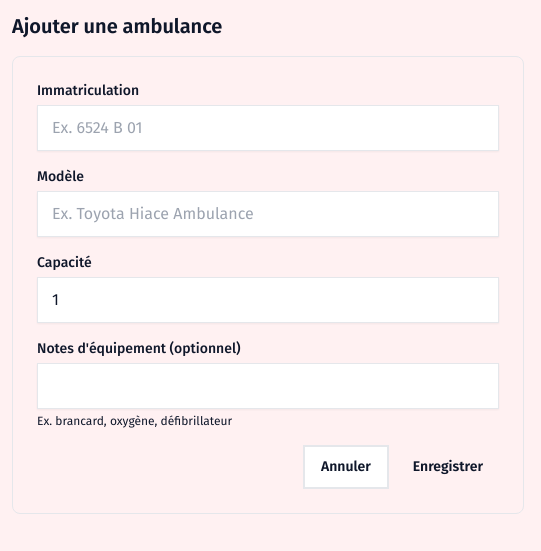
it: H4 — Formulaire ambulance (section 26 : formulaires, erreurs) › désactive la validation tant que le formulaire est invalide (pas de POST)
The image size is (541, 551).
Soumission avec modèle manquant → erreurs inline, pas d'appel réseau
Type "6524 B 01" into the field labelled "Immatriculation" at (268, 128), box [37, 105, 499, 151]
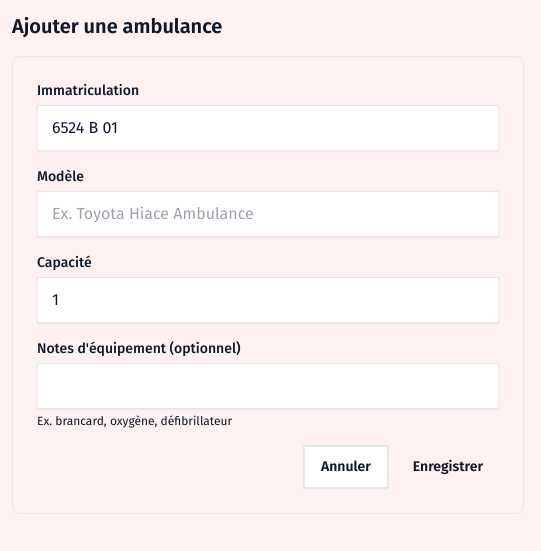
Replace the text in the number field labelled "Capacité" with "2" at (268, 300), box [37, 277, 499, 323]
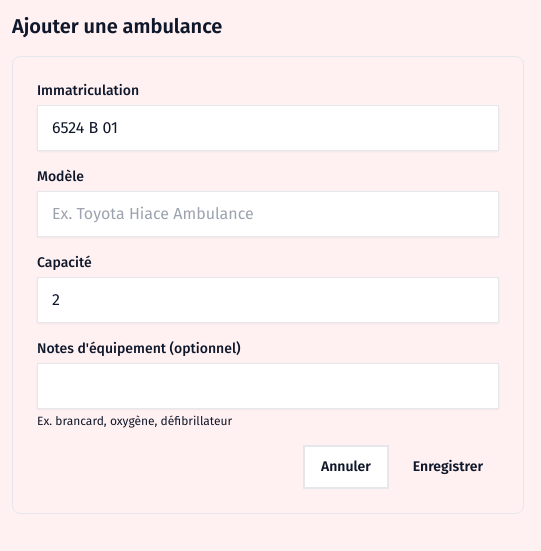
Click the button "Enregistrer" at (448, 467), box [397, 445, 499, 489]
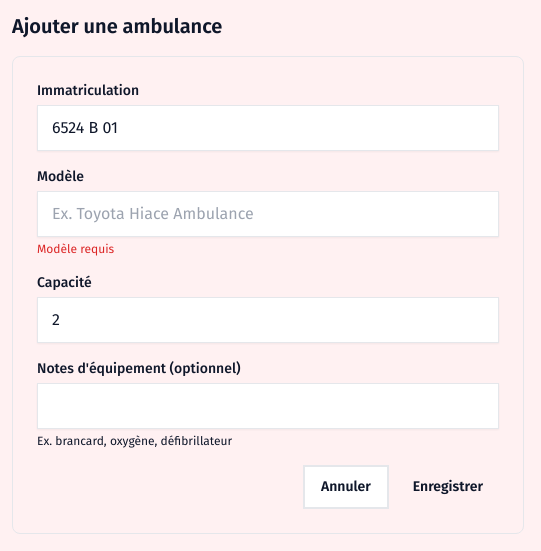
expect the text "Modèle requis" is shown: met, box [37, 242, 114, 256]
